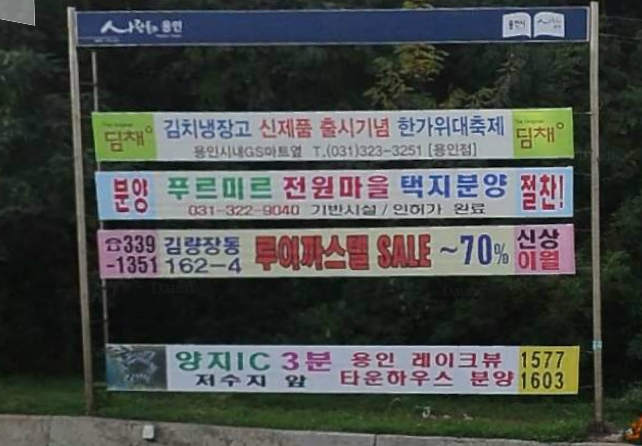banner: (75, 324, 617, 401), (65, 99, 608, 168), (69, 216, 614, 283), (64, 161, 610, 219)
